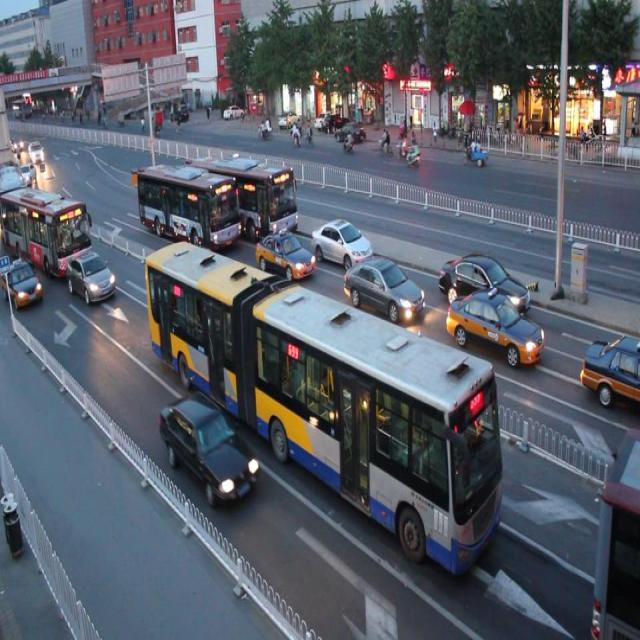car: (158, 390, 259, 502), (445, 288, 544, 364), (434, 250, 530, 314), (342, 255, 425, 323), (578, 330, 640, 408), (310, 216, 372, 271), (254, 227, 316, 281), (67, 249, 117, 304), (1, 251, 43, 311), (223, 149, 257, 186), (153, 168, 188, 197)
van: (146, 239, 501, 573), (591, 428, 640, 632), (138, 160, 241, 250), (191, 156, 298, 240), (1, 188, 92, 278)
